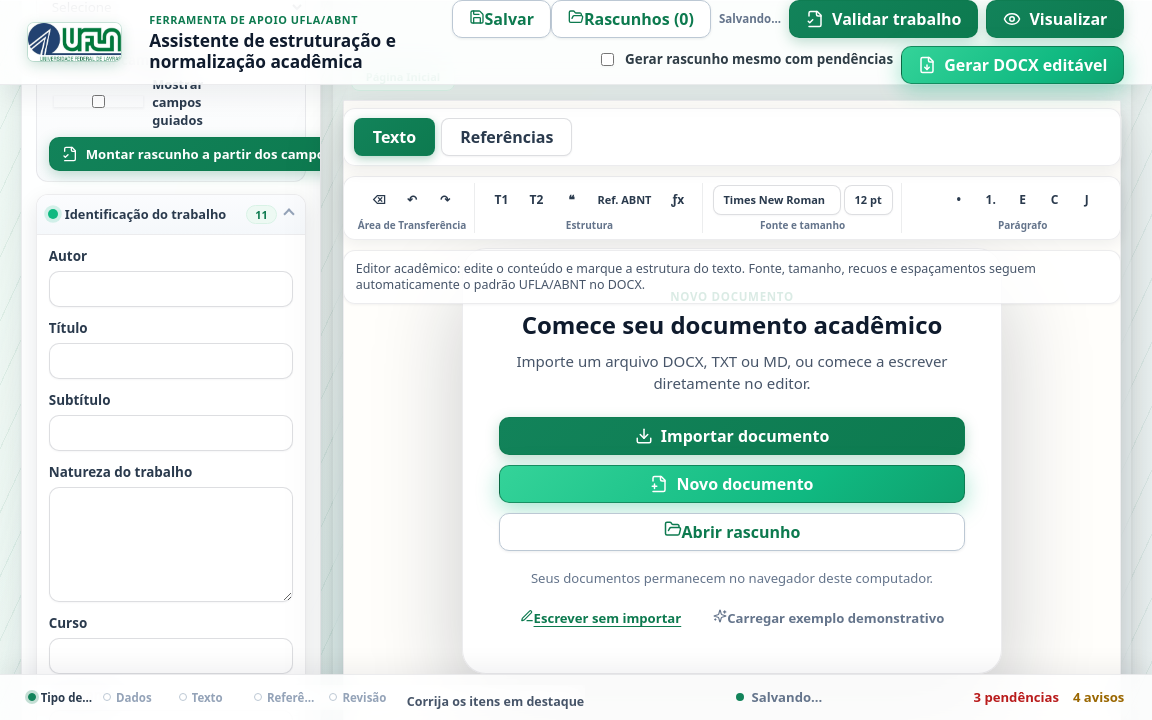
Scenario: TEC-02 — autosave com falha de storage › mostra feedback claro quando o localStorage rejeita a gravação por quota
(page scrolled)
Type "Título de teste" into the field with id "title" at (171, 361), box [49,343,293,379]
Wait 900 ms
(page scrolled)
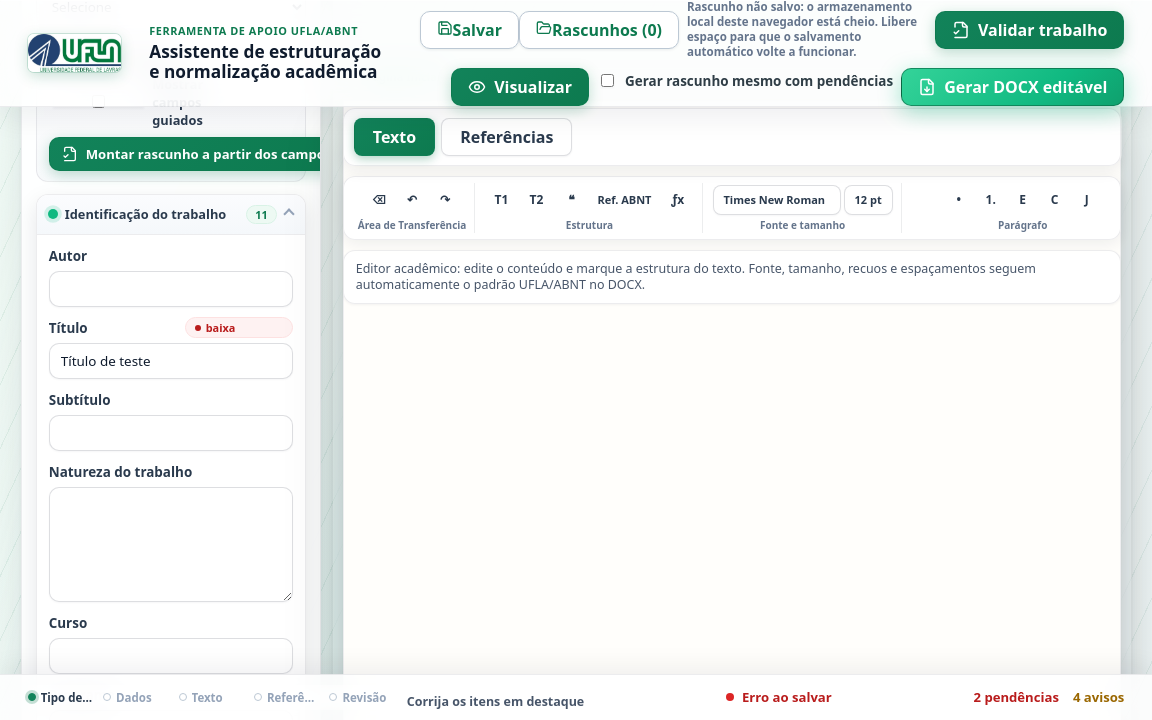
Check: the text "armazenamento local deste navegador está cheio" is shown, box [687,0,917,59]
